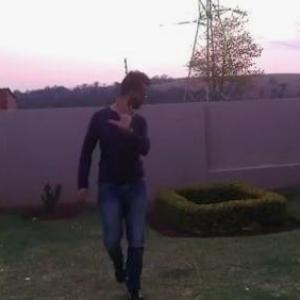follow_hand: (105, 96, 140, 133)
